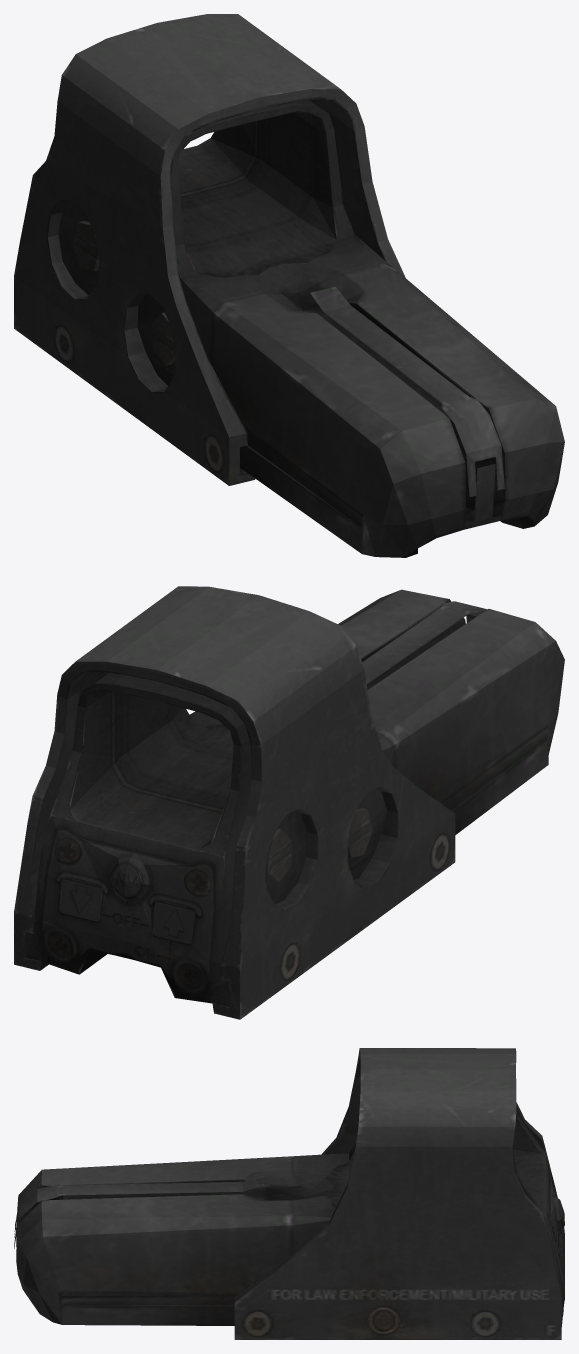
The model's file is Holosight.fbx.
3 views of the same model, one above another, from view 1: azimuth 30°, elevation 25°; view 2: azimuth 150°, elevation 25°; view 3: azimuth 270°, elevation 25° (orthographic). The views are drawn at different scales.
Parts seen in each view (by area): view 1: HoloSight; view 2: HoloSight; view 3: HoloSight.
Part boxes in pixels (x1,y1,x2,y2): HoloSight: [14, 14, 564, 557]; HoloSight: [14, 586, 564, 1019]; HoloSight: [14, 1048, 564, 1339].
Bounding box in the file's own units: 2.58 × 3.27 × 7.16.
